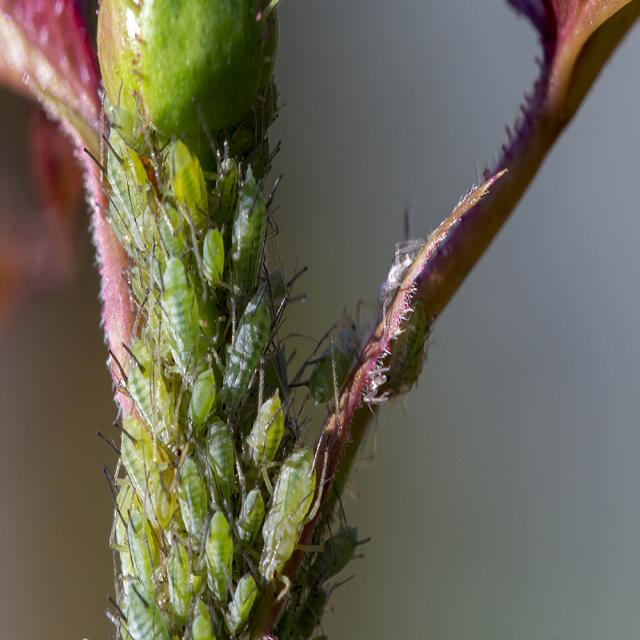Aphid-Grouped-: (88, 119, 324, 633)
Aphid-Grown-: (91, 122, 163, 254), (160, 128, 216, 238), (196, 503, 240, 611), (242, 385, 292, 478), (178, 361, 221, 441)
